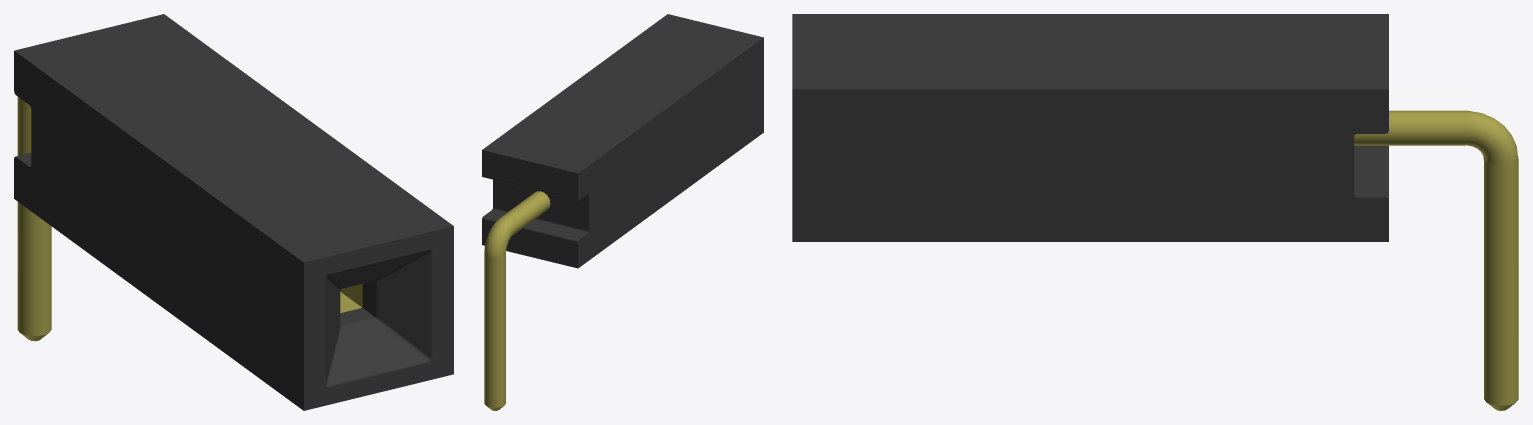
Rendered from Buchsenleiste_female_90_1.obj.
3 renders of one model, left to right at view 1: azimuth 30°, elevation 25°; view 2: azimuth 150°, elevation 25°; view 3: azimuth 270°, elevation 25°, orthographic. The views are drawn at different scales.
Visible parts, largest first — view 1: Volumenkörper1; view 2: Volumenkörper1; view 3: Volumenkörper1.
Part boxes in pixels (x1=…): Volumenkörper1: x1=14, y1=14, x2=453, y2=410; Volumenkörper1: x1=482, y1=14, x2=763, y2=410; Volumenkörper1: x1=792, y1=14, x2=1518, y2=410.
Bounding box in the file's own units: 2.54 × 5.6 × 10.35.
